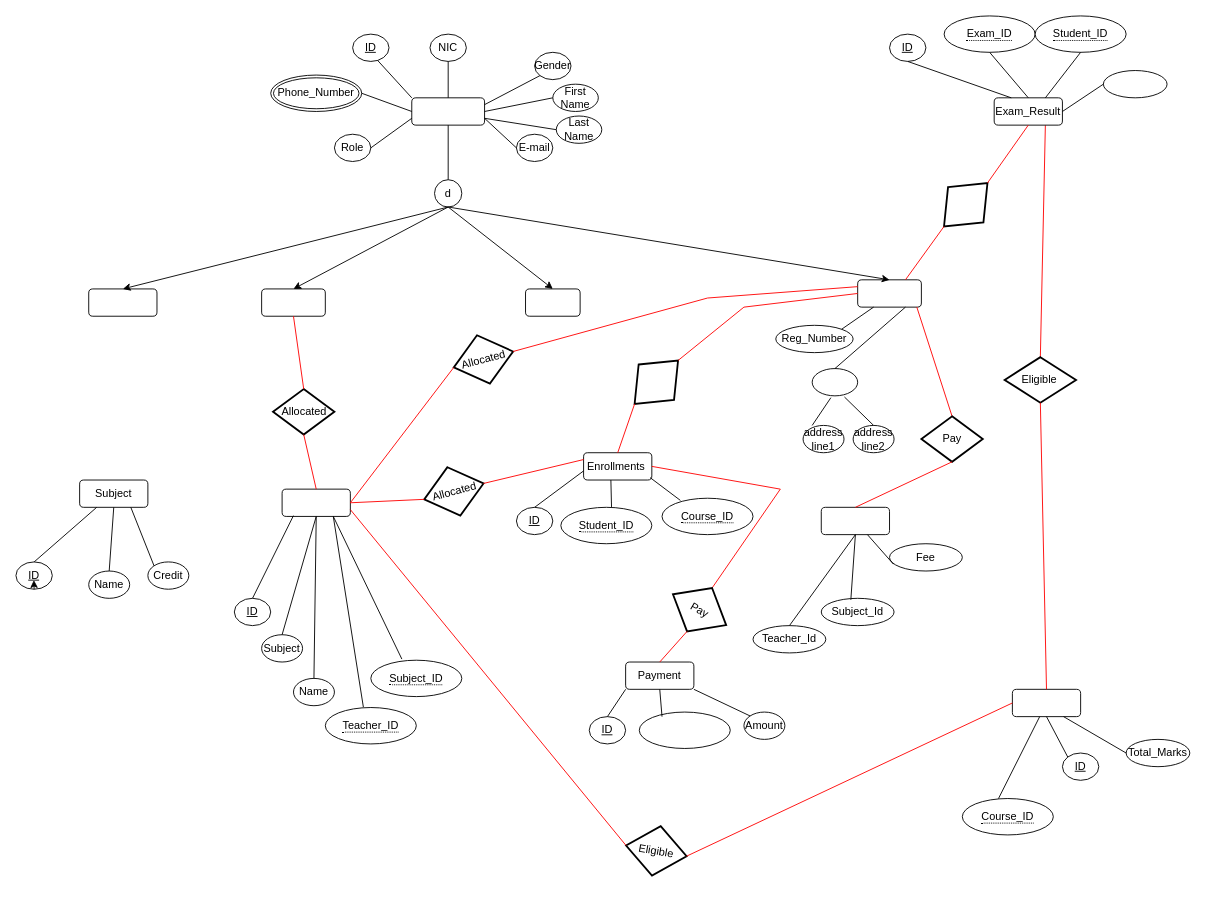
This 1206x898 diagram has some shape labels left out. Each missing label, with the centre of its shape:
Address: [834,382]
Class_Fee: [855,520]
Course: [315,502]
Enrolle: [656,381]
Enrollment _ID: [684,729]
Exam: [1046,702]
Get: [965,204]
Marks: [1134,84]
Student: [889,293]
Super User: [122,302]
Teacher: [293,302]
Tutor: [552,302]
User: [448,111]
